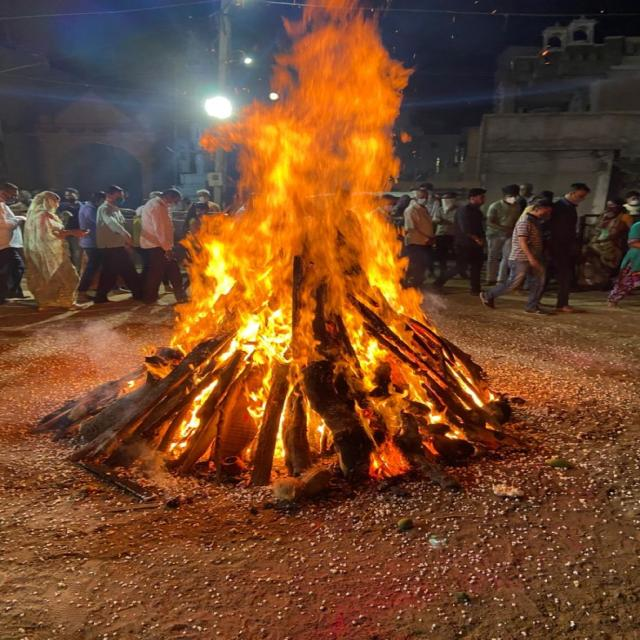fire: (171, 0, 417, 478), (426, 351, 495, 445)
